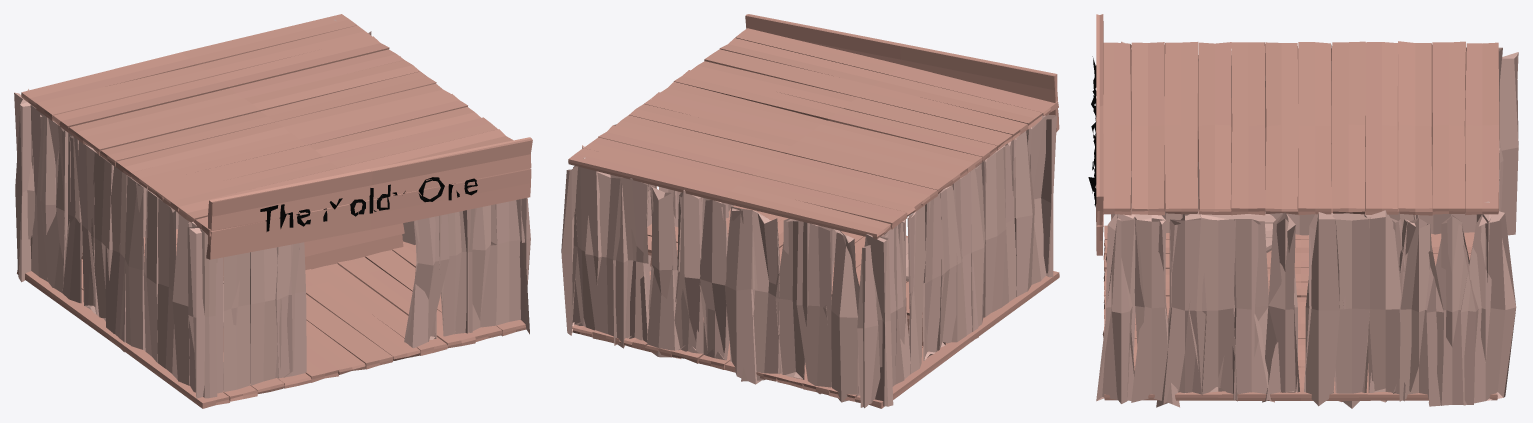
Rendered from MoldyOne.glb.
The picture shows the model from 3 angles, left to right: view 1: azimuth 30°, elevation 25°; view 2: azimuth 150°, elevation 25°; view 3: azimuth 270°, elevation 25°; orthographic projection. The views are drawn at different scales.
Visible parts, largest first — view 1: Roof, LeftWall, FrontWall, Sign, Floor, BackWall, CounterLowerPart, Text, RightWall; view 2: Roof, BackWall, LeftWall, Sign, Floor, RightWall, FrontWall, CounterUpperPart; view 3: RightWall, Roof, Floor, LeftWall, FrontWall, Sign, BackWall, Tabletop, Text.
Part boxes in pixels (box(x1,y1,x2,y2)): Roof: box(21, 14, 513, 236); LeftWall: box(14, 92, 217, 398); FrontWall: box(187, 198, 530, 398); Sign: box(206, 137, 532, 259); Floor: box(17, 241, 526, 408); BackWall: box(15, 19, 336, 282); CounterLowerPart: box(223, 223, 404, 280); Text: box(260, 177, 477, 231); RightWall: box(368, 31, 529, 334); Roof: box(568, 28, 1058, 239); BackWall: box(572, 157, 893, 406); LeftWall: box(857, 114, 1048, 408); Sign: box(745, 14, 1059, 132); Floor: box(572, 205, 1059, 408); RightWall: box(561, 99, 734, 335); FrontWall: box(976, 115, 1056, 277); CounterUpperPart: box(647, 224, 922, 318); RightWall: box(1096, 207, 1516, 408); Roof: box(1099, 41, 1499, 215); Floor: box(1102, 225, 1497, 400); LeftWall: box(1111, 47, 1518, 235); FrontWall: box(1105, 41, 1132, 403); Sign: box(1095, 14, 1103, 255); BackWall: box(1476, 47, 1503, 282); Tabletop: box(1187, 209, 1275, 252); Text: box(1088, 56, 1096, 206).
Size of what is drawn, in the model's own units: 6.38 by 3.88 by 6.57.
